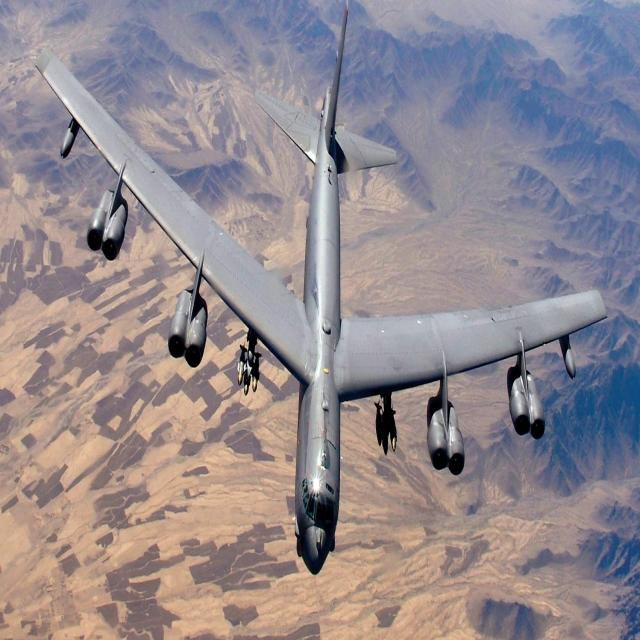B52: (24, 29, 624, 596)
